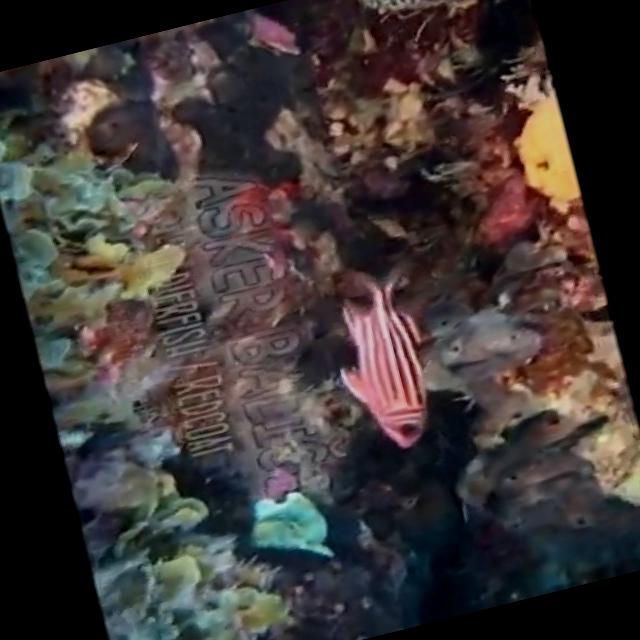Asker Baligi: (326, 267, 442, 456)
